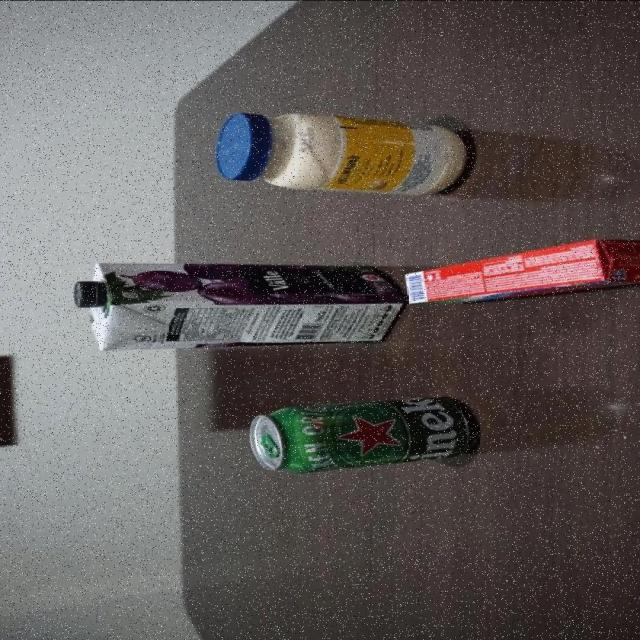BeerCan: (245, 392, 476, 470)
Mayonnaise: (216, 107, 474, 201)
Toothpaste: (405, 236, 640, 306)
